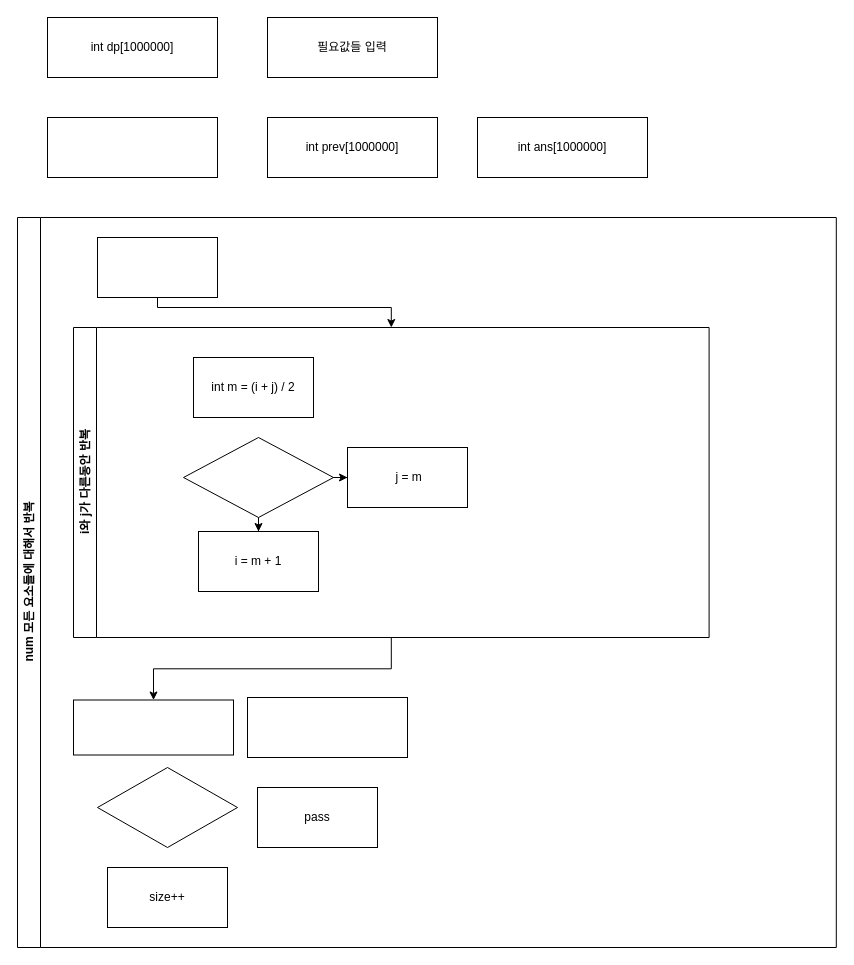
Image size: 854x965. Some labels were removed from this diagram. Here are the shapes that lost their labels. From the top down, the centre of each, then its label:
At (x=132, y=147): "int size = 0".
At (x=157, y=267): "int i = 0, int j = size".
At (x=258, y=477): "dp[m].fisrt이 x값보다 작은가?".
At (x=153, y=727): "dp[i] = make_pair(nums[k], k)".
At (x=327, y=727): "prev[k] = dp[ i -1] .second".
At (x=167, y=807): "nums[k]가 size인가?".
